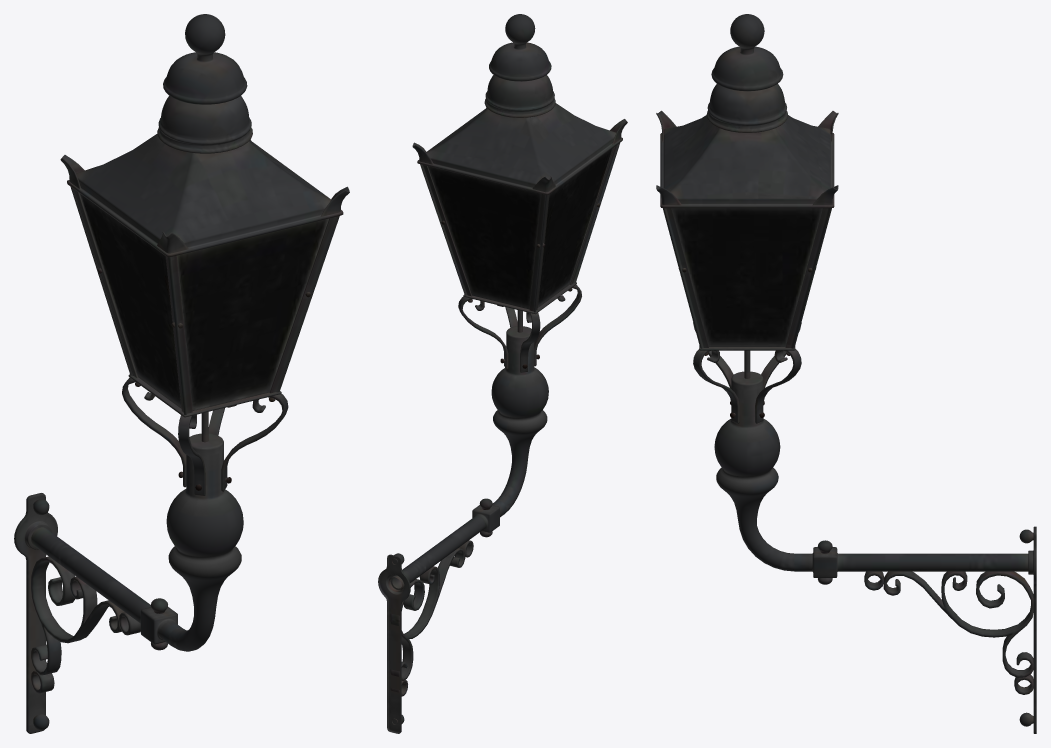
3 views of the same model, side by side, from view 1: azimuth 30°, elevation 25°; view 2: azimuth 150°, elevation 25°; view 3: azimuth 270°, elevation 25° (orthographic). The views are drawn at different scales.
Visible parts, largest first — view 1: street_lamp_02; view 2: street_lamp_02; view 3: street_lamp_02.
Part boxes in pixels (x1=…): street_lamp_02: x1=14, y1=14, x2=349, y2=733; street_lamp_02: x1=378, y1=14, x2=627, y2=733; street_lamp_02: x1=656, y1=14, x2=1036, y2=733.
Size of the model in its own units: 0.3865 by 1.68 by 0.8068.
Materials: 3 (3 with a texture image).
